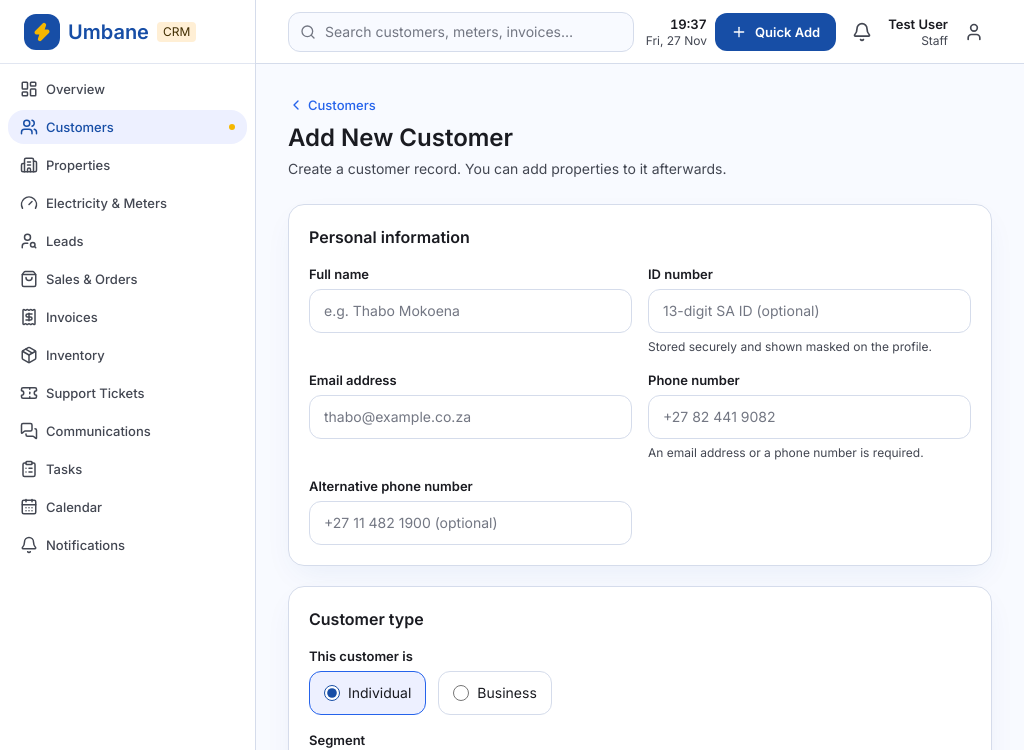
Test: add customer › saves normalised values and opens the new profile with a confirmation
Type "  Thabo Mokoena " into the field labelled "Full name" at x=470, y=311, box [309,289,632,333]
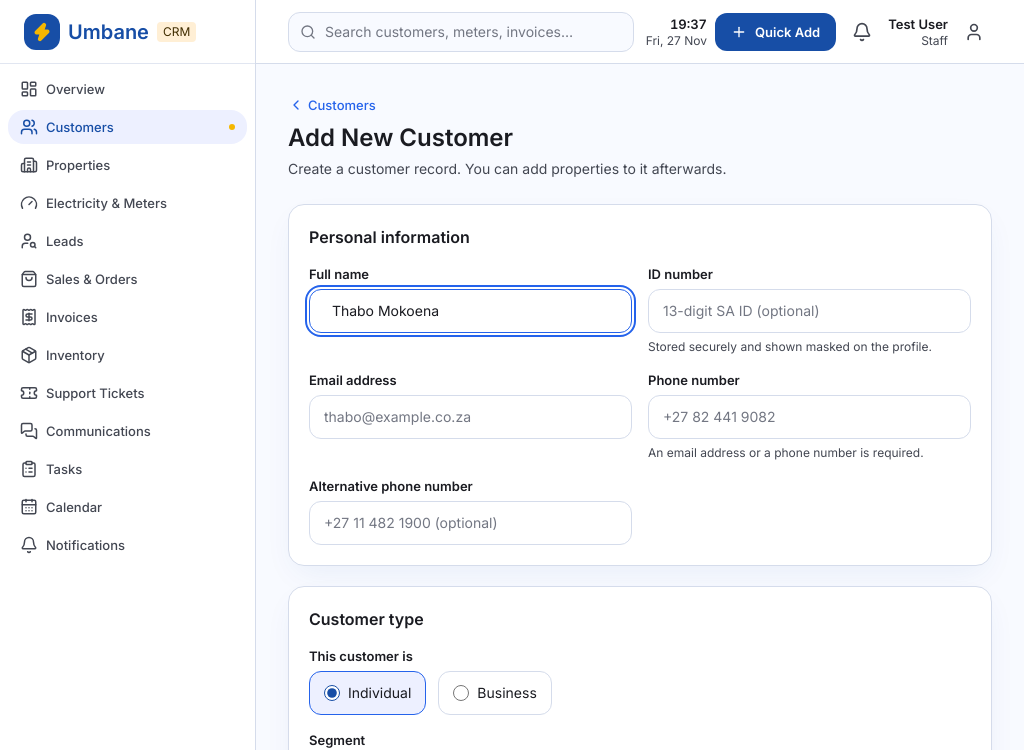
Type "THABO@Example.co.za" into the field labelled "Email address" at x=470, y=417, box [309,395,632,439]
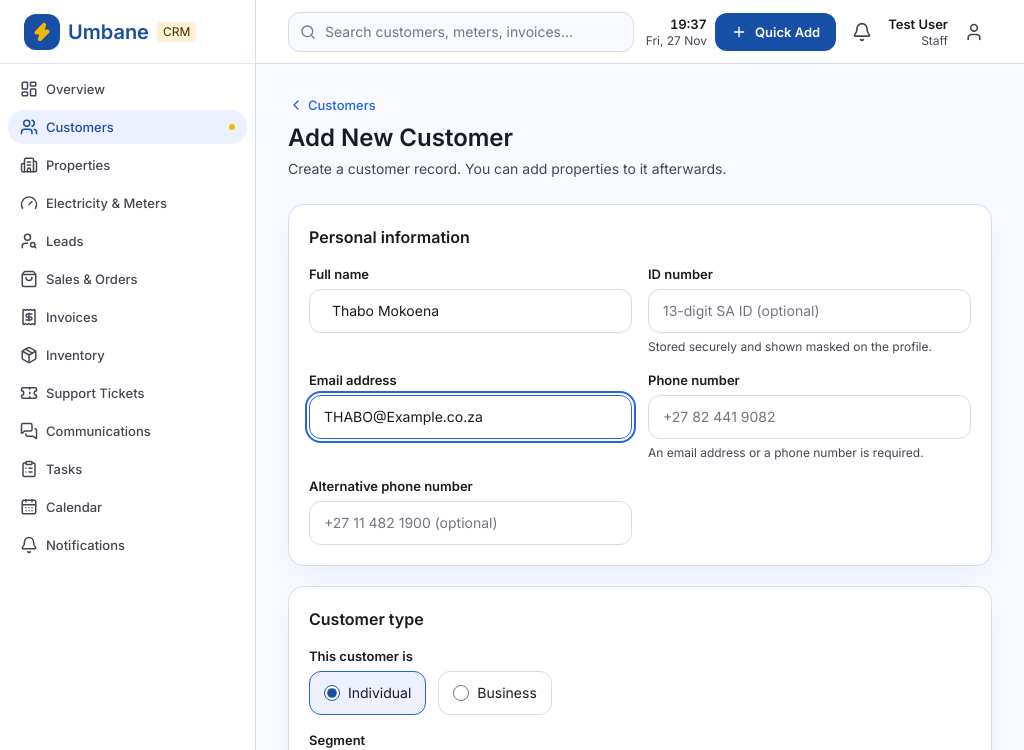
Type "082 441 9082" into the field labelled "Phone number" at x=810, y=417, box [648,395,971,439]
(page scrolled)
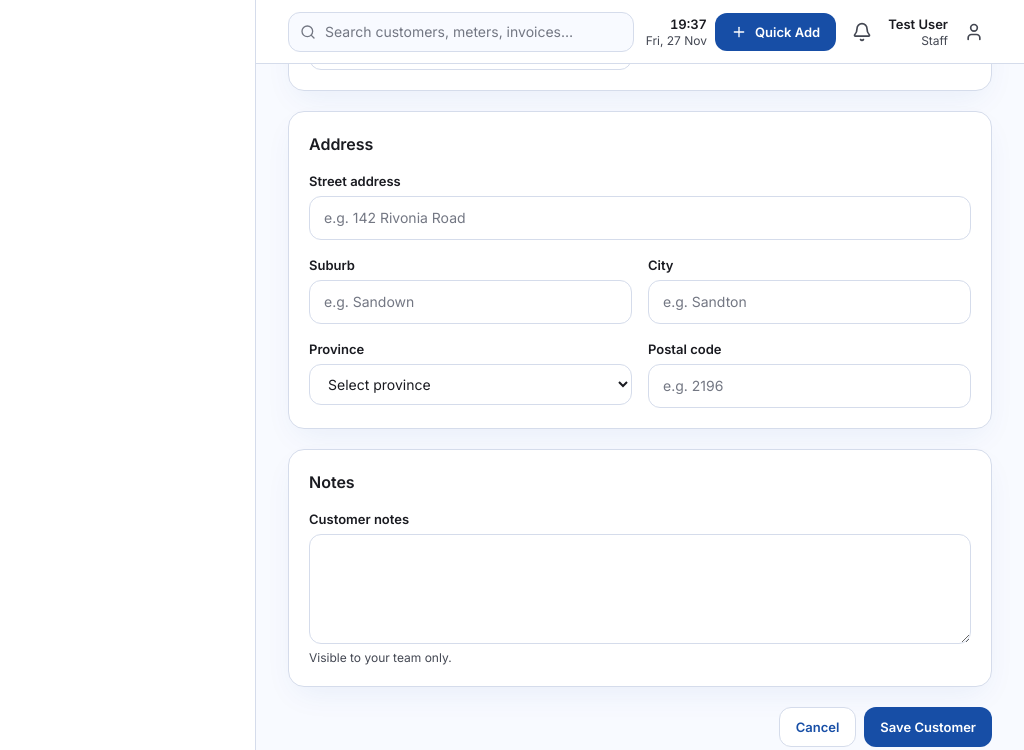
Select "Gauteng" in the dropdown labelled "Province" at x=470, y=384, box [309,364,632,405]
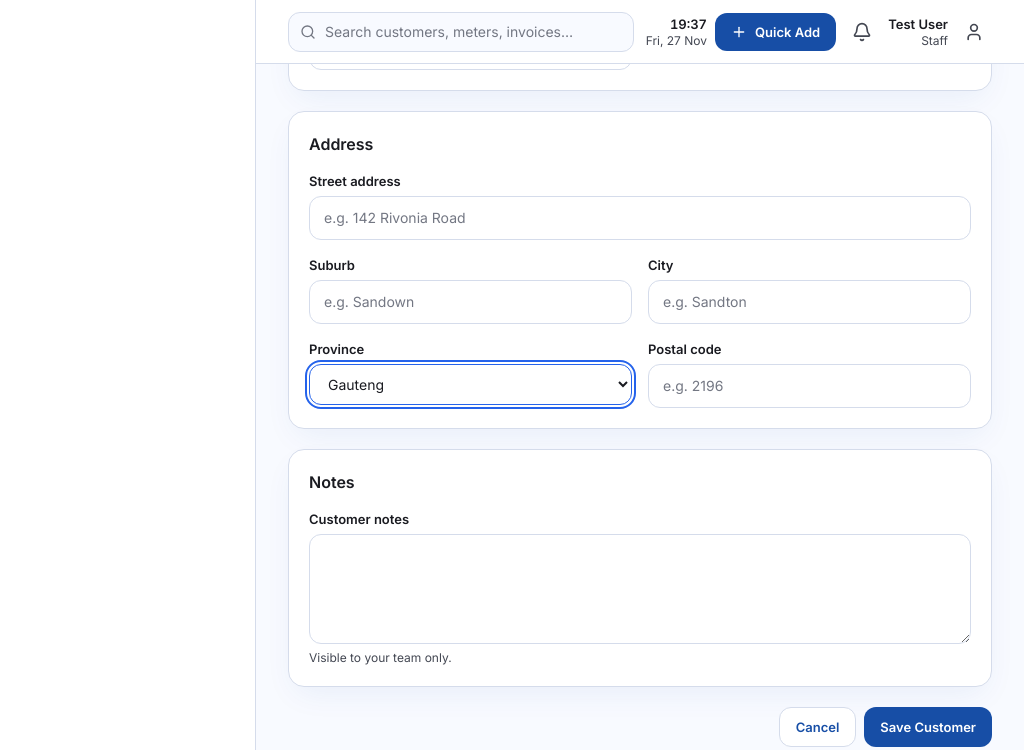
Click the button "Save Customer" at x=928, y=727, box [864,707,992,747]
(page scrolled)
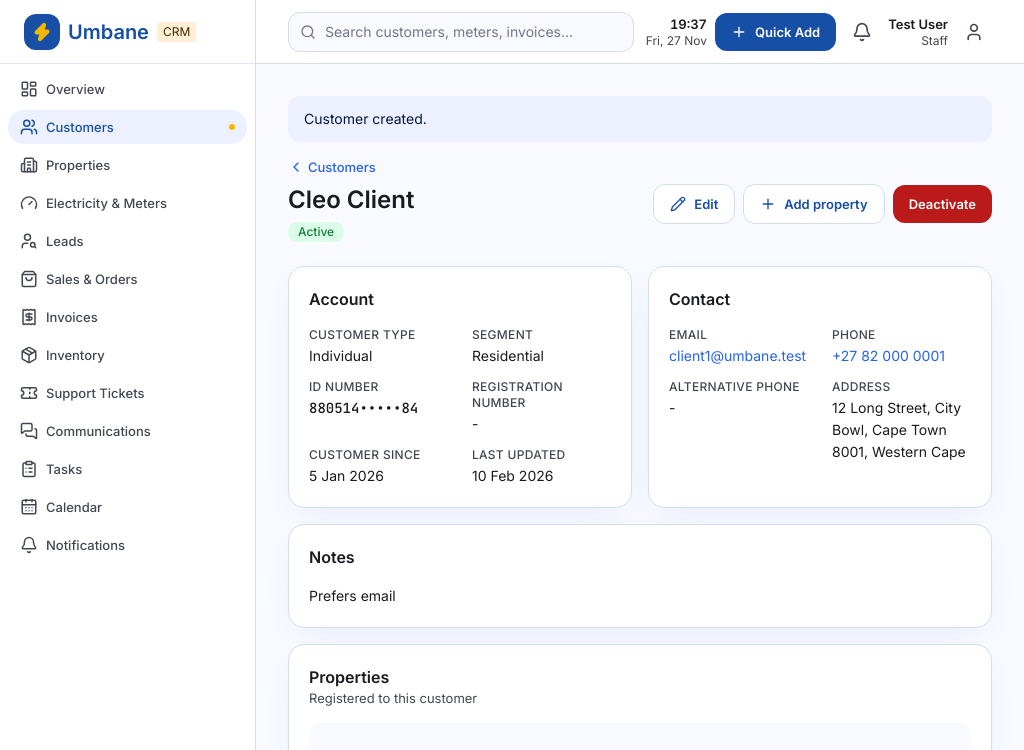
Expected: the text "Customer created." is shown, [288,96,992,142]
Expected: the heading "Cleo Client" is shown, [288,184,414,216]
